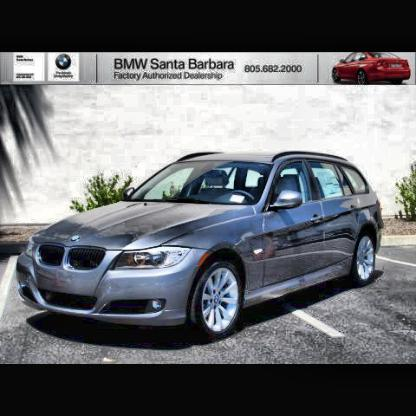BMW 3 Series Wagon 2012: (16, 153, 386, 342)
